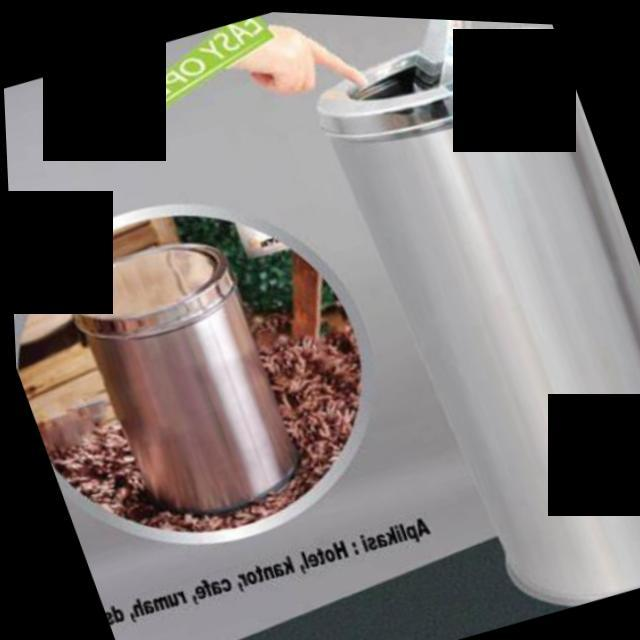bin: (273, 10, 640, 630), (7, 188, 349, 587)
